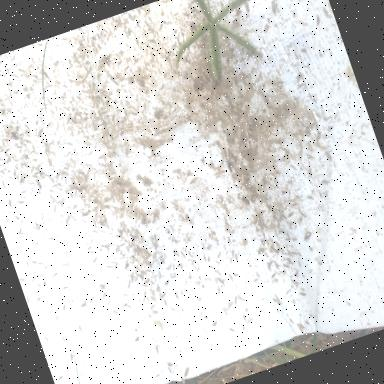pbw: (180, 367, 192, 380), (303, 122, 318, 132), (68, 180, 80, 192), (148, 252, 160, 264), (268, 0, 278, 14), (274, 199, 284, 213), (273, 206, 283, 219), (232, 164, 242, 177), (188, 20, 198, 32), (250, 191, 260, 202), (35, 128, 46, 138), (222, 102, 232, 112), (302, 230, 312, 240), (232, 172, 242, 182), (262, 22, 272, 32), (319, 142, 329, 152), (266, 101, 277, 110), (272, 78, 284, 86), (325, 150, 333, 162), (236, 84, 245, 94), (294, 74, 304, 83), (234, 157, 242, 168), (306, 140, 313, 152), (222, 146, 229, 158), (35, 178, 42, 190), (200, 76, 210, 84), (185, 92, 195, 100), (10, 134, 20, 142), (300, 18, 308, 28), (290, 162, 298, 172), (246, 146, 254, 156), (214, 268, 222, 278), (226, 152, 234, 162), (298, 150, 306, 160), (232, 296, 240, 306), (242, 134, 250, 143), (294, 48, 300, 60), (257, 246, 266, 254), (68, 352, 75, 362), (244, 2, 251, 12), (307, 168, 314, 178), (271, 246, 278, 256), (292, 129, 302, 136), (258, 114, 265, 124), (227, 138, 234, 148), (182, 10, 190, 18), (245, 317, 254, 324), (326, 125, 335, 132), (218, 194, 224, 204), (240, 173, 246, 183), (258, 214, 264, 224), (242, 313, 248, 323), (198, 88, 204, 98), (222, 306, 230, 313), (248, 129, 255, 137), (216, 250, 223, 258), (314, 135, 322, 142), (244, 140, 250, 149), (228, 273, 234, 282), (263, 92, 269, 101), (260, 212, 265, 222), (241, 150, 249, 156), (287, 212, 295, 218), (226, 226, 232, 234), (210, 230, 216, 238), (200, 72, 206, 80), (224, 116, 230, 124), (258, 194, 266, 200), (44, 334, 50, 342), (208, 148, 214, 156), (246, 174, 252, 181), (57, 375, 64, 381), (260, 128, 266, 134), (242, 224, 249, 229), (277, 113, 284, 118)
